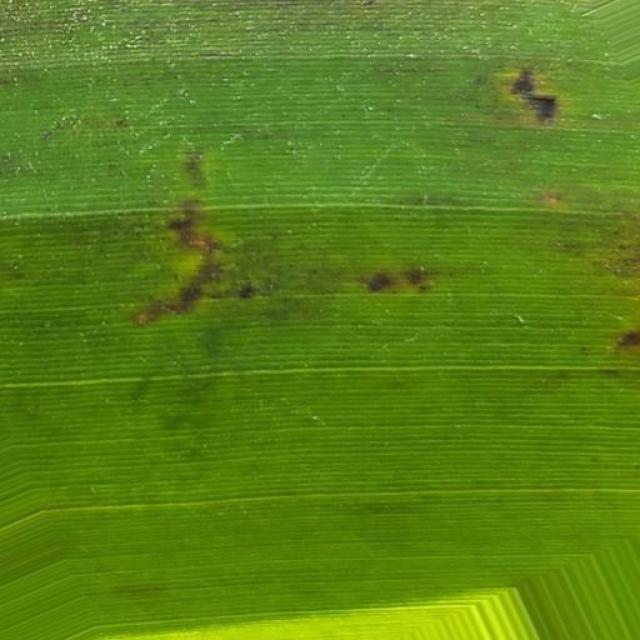Black_rot: (64, 45, 640, 489)
